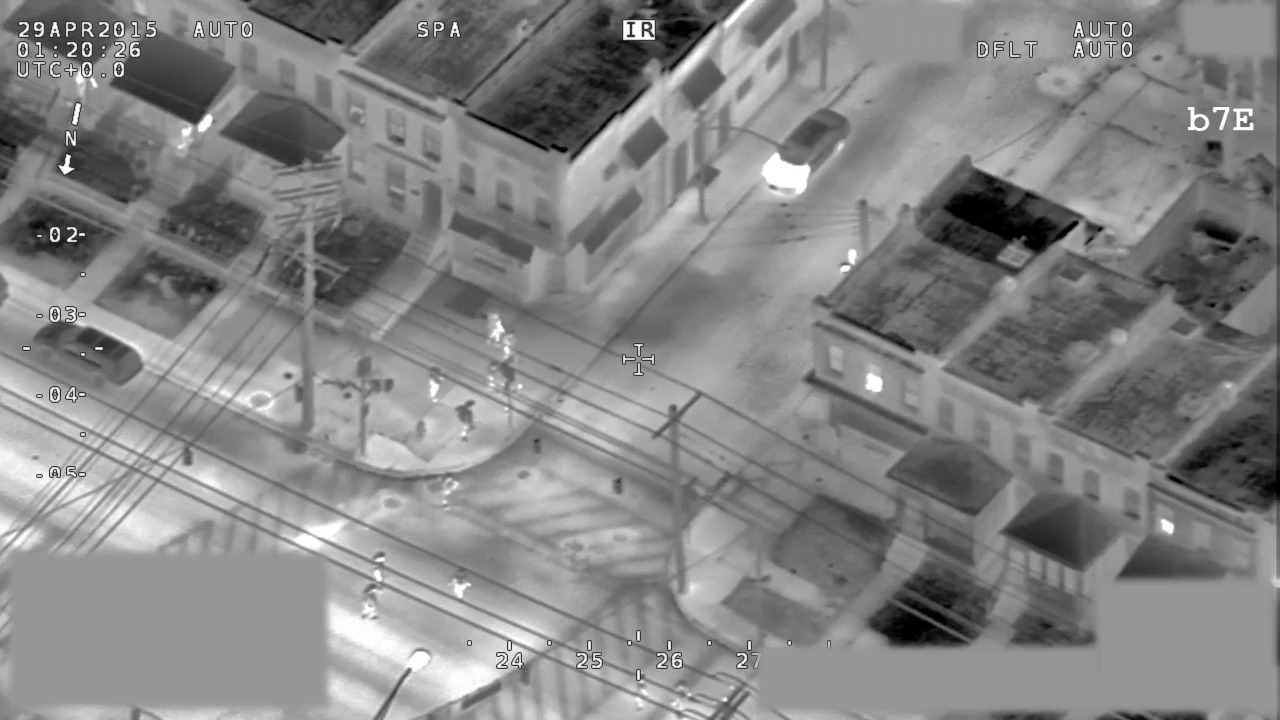vehicle: (759, 108, 856, 202), (32, 319, 143, 392)
